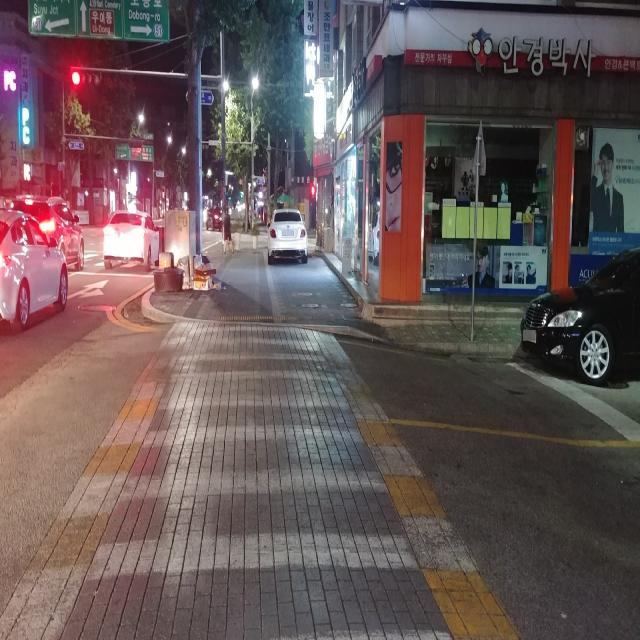횡단보도: (63, 319, 454, 640)
